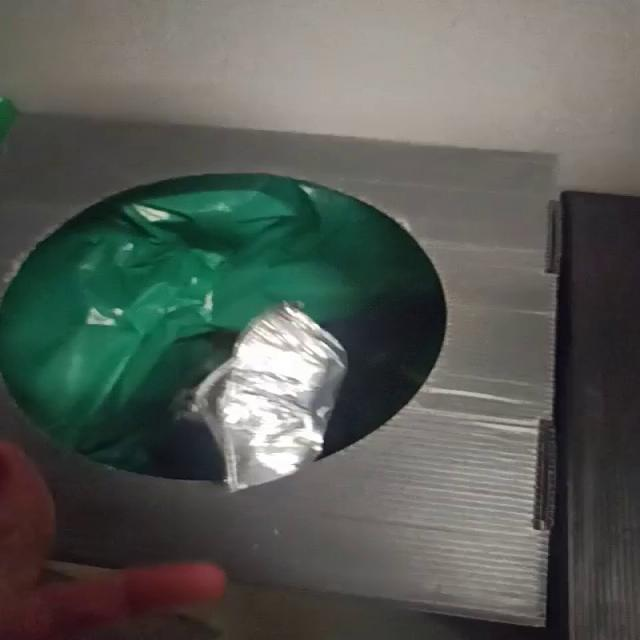bin: (1, 115, 556, 626)
metal: (191, 303, 347, 492)
